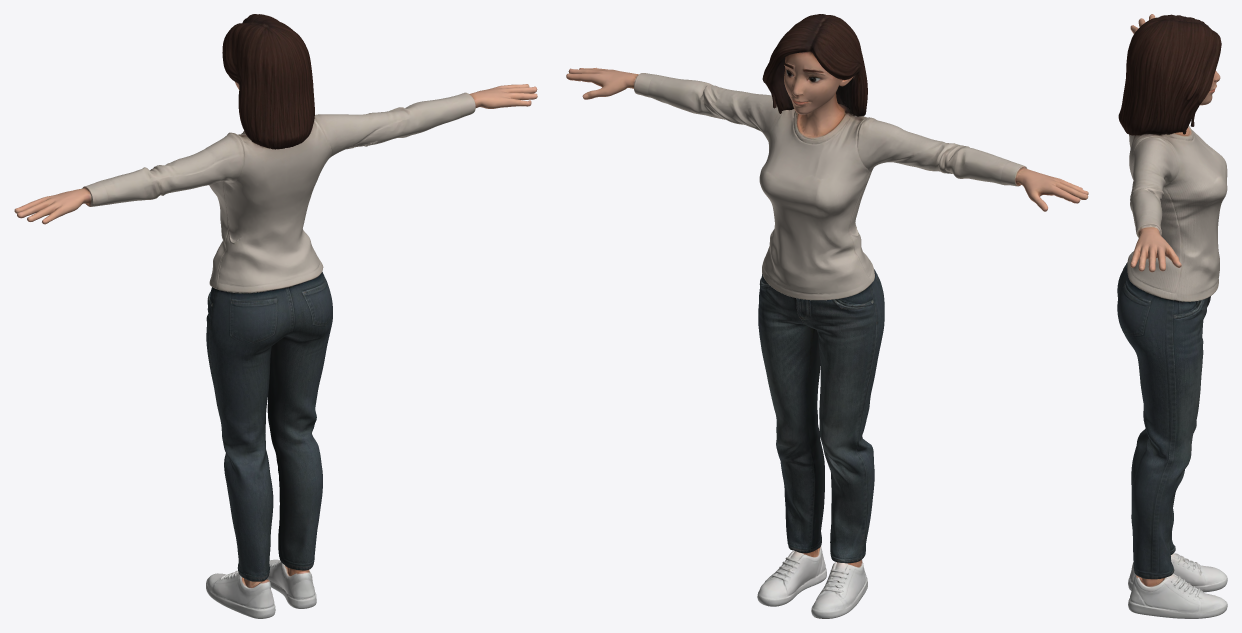
Rendered from figure-woman.glb.
The picture shows the model from 3 angles, left to right: view 1: azimuth 30°, elevation 25°; view 2: azimuth 150°, elevation 25°; view 3: azimuth 270°, elevation 25°; orthographic projection.
Visible parts, largest first — view 1: tripo_node_637b0fda-b0c7-4d95-8e11-b692f90e9971; view 2: tripo_node_637b0fda-b0c7-4d95-8e11-b692f90e9971; view 3: tripo_node_637b0fda-b0c7-4d95-8e11-b692f90e9971.
Boxes of the visible parts, x1=… form: tripo_node_637b0fda-b0c7-4d95-8e11-b692f90e9971: x1=14, y1=14, x2=537, y2=618; tripo_node_637b0fda-b0c7-4d95-8e11-b692f90e9971: x1=566, y1=14, x2=1088, y2=618; tripo_node_637b0fda-b0c7-4d95-8e11-b692f90e9971: x1=1117, y1=14, x2=1227, y2=618.
Bounding box in the file's own units: 0.9245 × 0.9815 × 0.169.
1 material, 1 textured.
